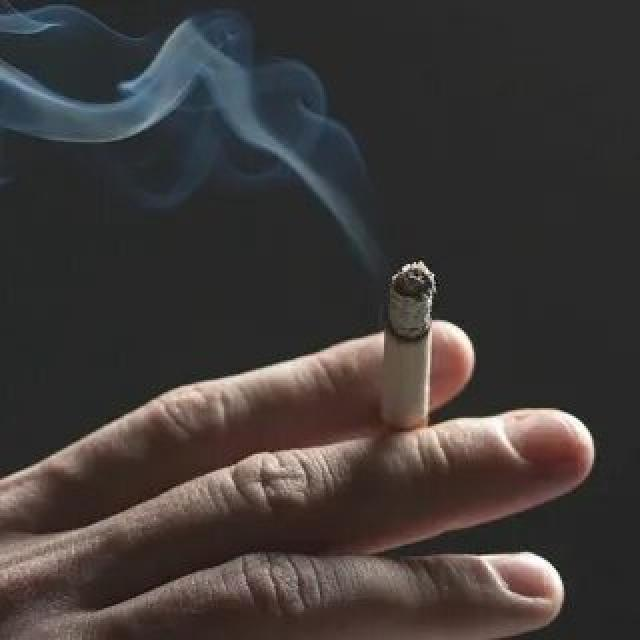smoke: (374, 256, 436, 444)
